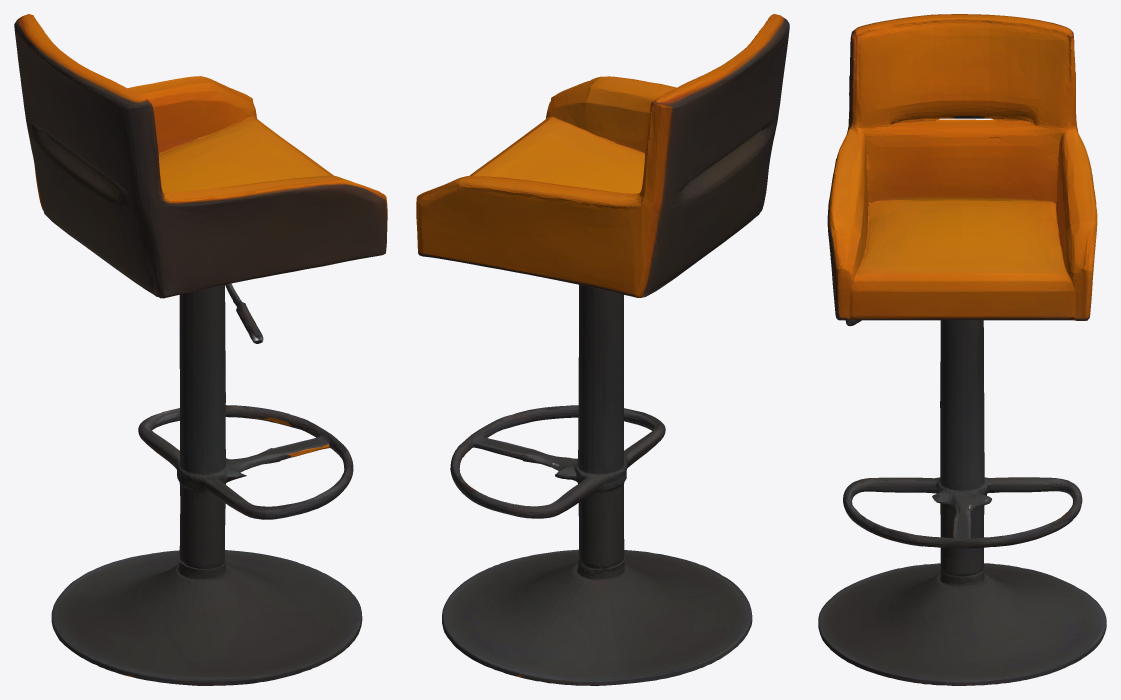
The model's file is bar_stool_32.obj.
3 views of the same model, side by side, from view 1: azimuth 30°, elevation 25°; view 2: azimuth 150°, elevation 25°; view 3: azimuth 270°, elevation 25° (orthographic). The views are drawn at different scales.
Size of the model in its own units: 0.5041 by 1 by 0.4787.
Materials: 1 (1 with a texture image).
